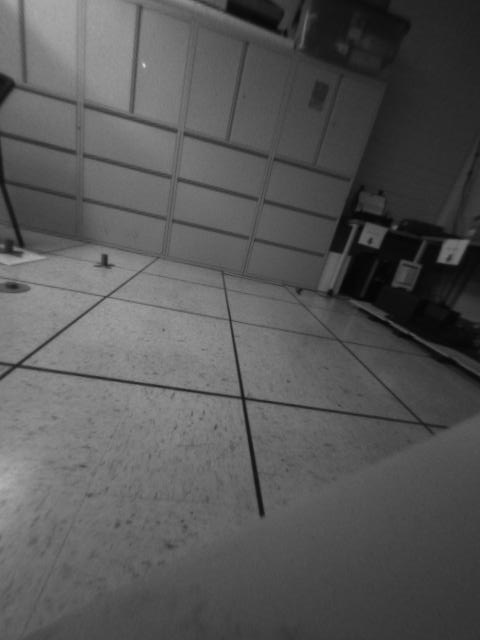X: (1, 235, 27, 259), (92, 251, 115, 271)
